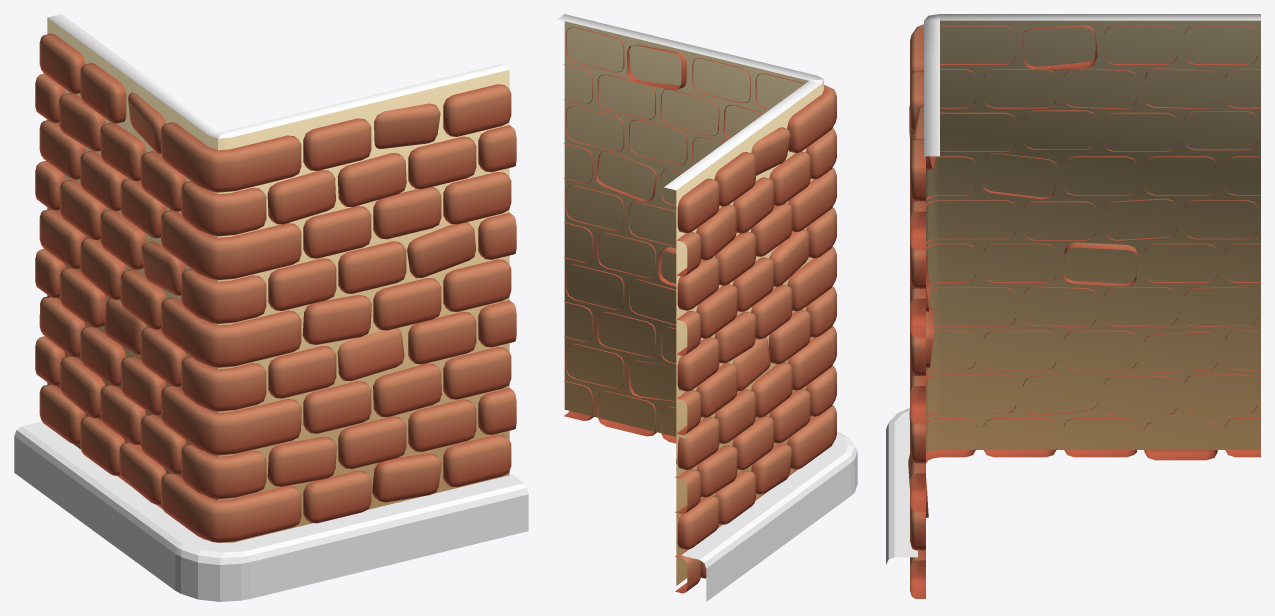
Rendered from BrickWallCorner_M.fbx.
The picture shows the model from 3 angles, left to right: view 1: azimuth 30°, elevation 25°; view 2: azimuth 150°, elevation 25°; view 3: azimuth 270°, elevation 25°; orthographic projection. The views are drawn at different scales.
Visible parts, largest first — view 1: BrickWallCorner; view 2: BrickWallCorner; view 3: BrickWallCorner.
Part boxes in pixels (<box>): BrickWallCorner: <box>14,14,528,601</box>; BrickWallCorner: <box>557,14,857,601</box>; BrickWallCorner: <box>886,14,1260,598</box>.
Size of the model in its own units: 3.07 by 2.34 by 2.34.
